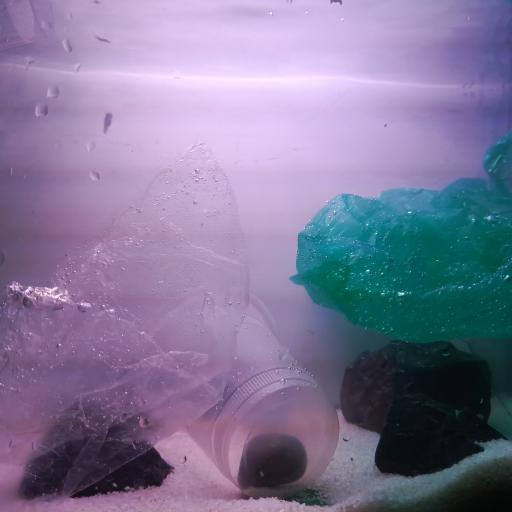plastic_bag: (0, 136, 251, 512), (289, 128, 512, 341)
plastic_cup: (125, 281, 340, 501), (0, 0, 55, 52)
